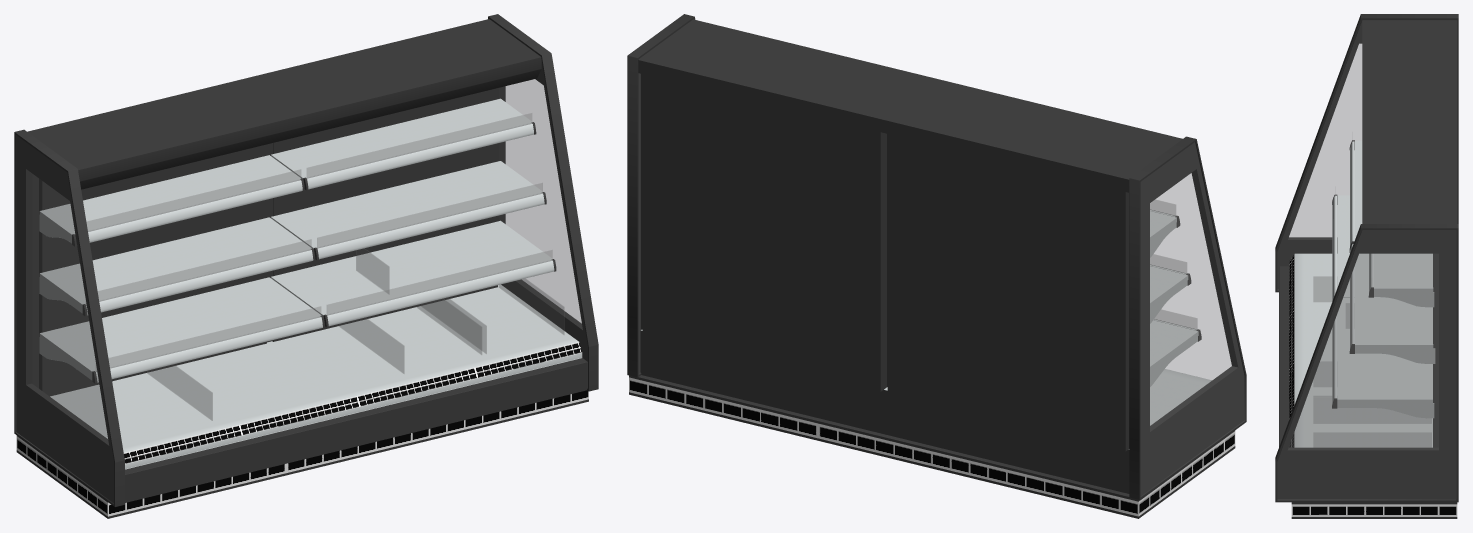
The model's file is SM_牛奶柜001.fbx.
3 renders of one model, left to right at view 1: azimuth 30°, elevation 25°; view 2: azimuth 150°, elevation 25°; view 3: azimuth 270°, elevation 25°, orthographic. The views are drawn at different scales.
Parts seen in each view (by area): view 1: SM_牛奶柜001; view 2: SM_牛奶柜001; view 3: SM_牛奶柜001.
Boxes of the visible parts, x1=… form: SM_牛奶柜001: x1=14, y1=14, x2=598, y2=518; SM_牛奶柜001: x1=627, y1=14, x2=1246, y2=518; SM_牛奶柜001: x1=1275, y1=14, x2=1458, y2=518.
Size of the model in its own units: 253 by 160 by 91.38.
